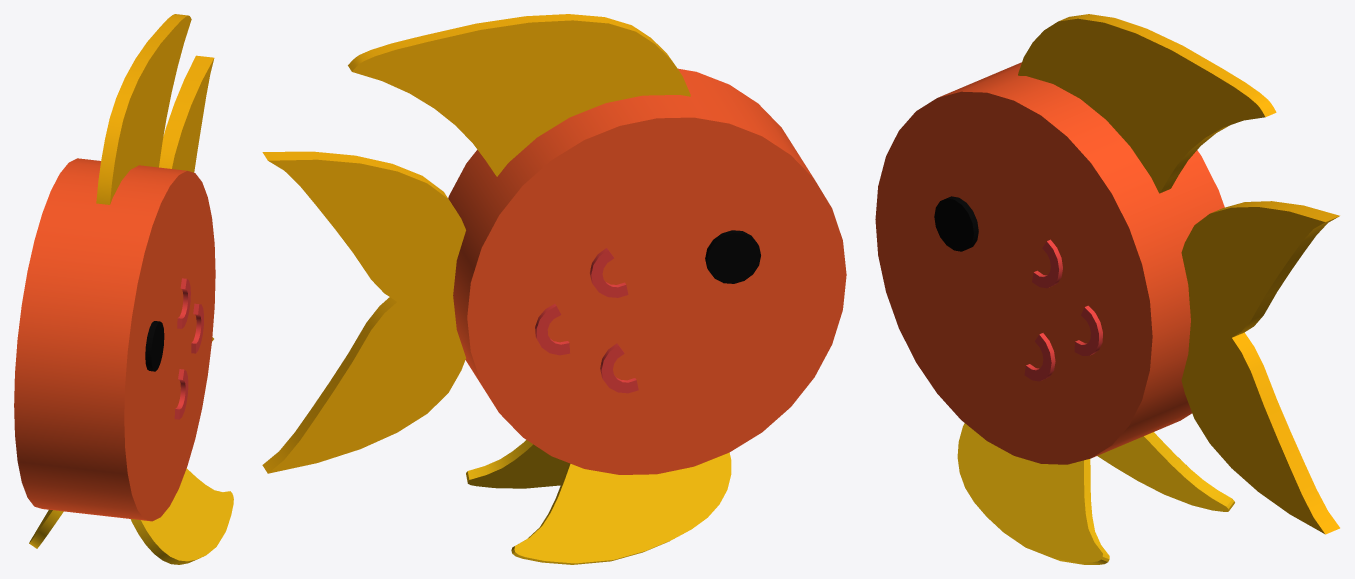
The model's file is tropical_fish.glb.
3 views of the same model, side by side, from view 1: azimuth 30°, elevation 25°; view 2: azimuth 150°, elevation 25°; view 3: azimuth 270°, elevation 25° (orthographic). The views are drawn at different scales.
Visible parts, largest first — view 1: Circle.1969; view 2: Circle.1969; view 3: Circle.1969.
Boxes of the visible parts, x1,y1,x2,y2 form: Circle.1969: (14,14,233,564); Circle.1969: (262,14,846,564); Circle.1969: (875,14,1339,564).
Bounding box in the file's own units: 1.77 × 2.14 × 1.77.
Materials: 1 (1 with a texture image).
